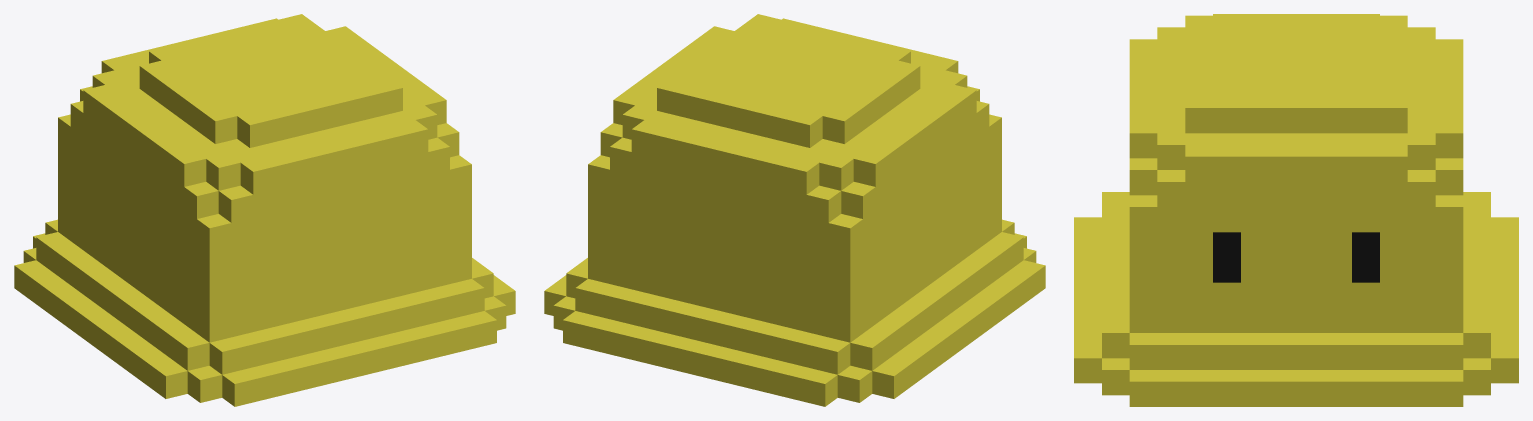
The model's file is slime3.obj.
3 renders of one model, left to right at view 1: azimuth 30°, elevation 25°; view 2: azimuth 150°, elevation 25°; view 3: azimuth 270°, elevation 25°, orthographic. The views are drawn at different scales.
Size of the model in its own units: 1.6 by 1 by 1.6.
Materials: 1 (1 with a texture image).
